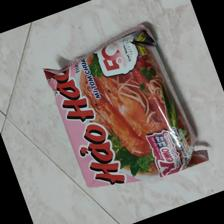Haohao: (37, 23, 209, 192)
